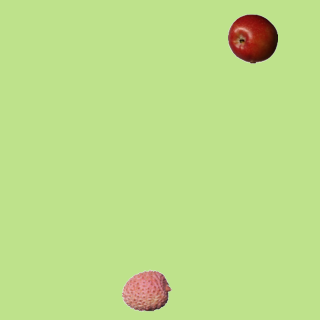Apple Braeburn: (227, 13, 277, 63)
Lychee: (121, 265, 171, 315)
